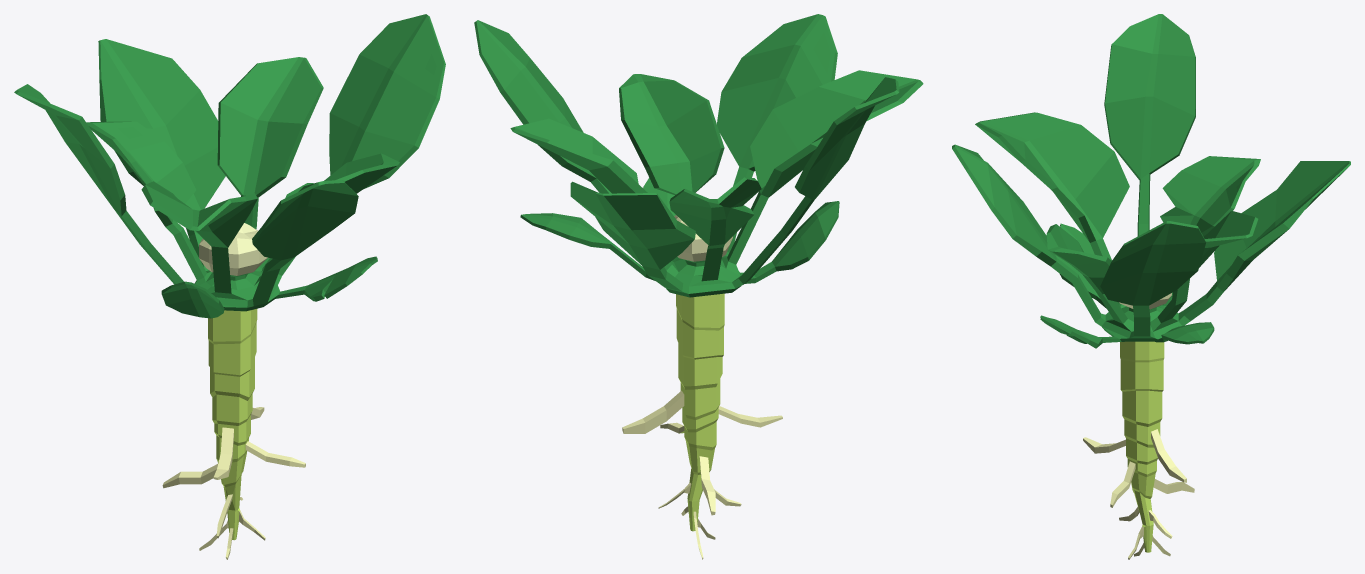
File: mod_Cauliflower_Half.fbx
3 views of the same model, side by side, from view 1: azimuth 30°, elevation 25°; view 2: azimuth 150°, elevation 25°; view 3: azimuth 270°, elevation 25° (orthographic). The views are drawn at different scales.
Visible parts, largest first — view 1: Cauliflower; view 2: Cauliflower; view 3: Cauliflower.
Part boxes in pixels (box(x1,y1,x2,y2)): Cauliflower: box(14, 14, 445, 559); Cauliflower: box(474, 14, 923, 559); Cauliflower: box(952, 14, 1350, 559).
Bounding box in the file's own units: 530 × 618 × 485.
